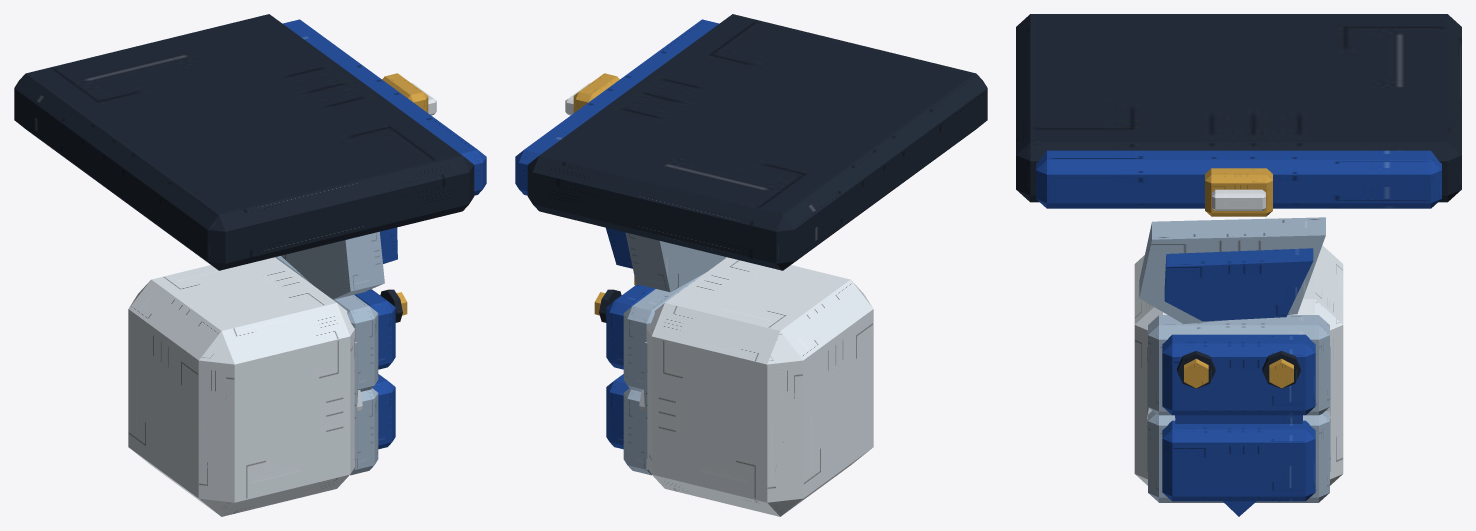
The model's file is cobalt.glb.
3 renders of one model, left to right at view 1: azimuth 30°, elevation 25°; view 2: azimuth 150°, elevation 25°; view 3: azimuth 270°, elevation 25°, orthographic. The views are drawn at different scales.
Parts seen in each view (by area): view 1: hips, leg_L, shin_L; view 2: hips, leg_L, shin_L; view 3: hips, leg_L, shin_L, leg_R.
Part boxes in pixels (x1,y1,x2,y2): hips: (14, 14, 486, 270); leg_L: (128, 256, 395, 516); shin_L: (218, 227, 397, 459); hips: (515, 14, 987, 270); leg_L: (594, 257, 873, 516); shin_L: (606, 227, 783, 459); hips: (1016, 14, 1461, 216); leg_L: (1134, 245, 1343, 502); shin_L: (1139, 217, 1330, 516); leg_R: (1177, 351, 1215, 388).
Size of the model in its own units: 0.248 by 0.273 by 0.282.
6 materials, 6 textured.
